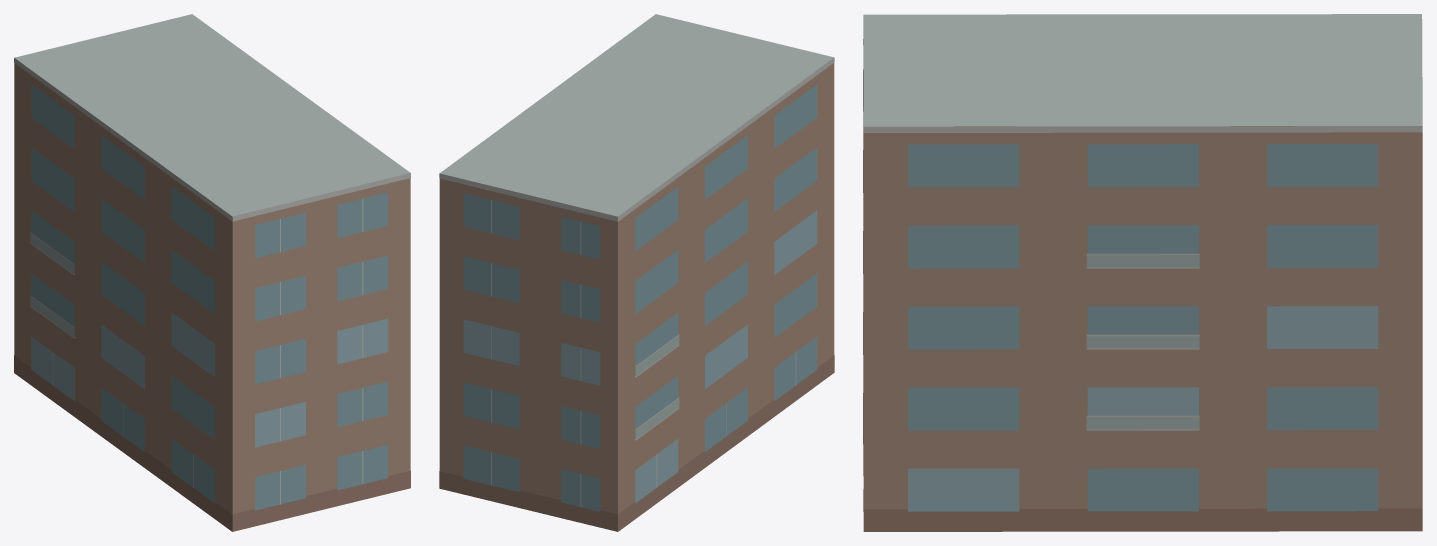
Rendered from survey-upis-32881122.glb.
3 views of the same model, side by side, from view 1: azimuth 30°, elevation 25°; view 2: azimuth 150°, elevation 25°; view 3: azimuth 270°, elevation 25° (orthographic). The views are drawn at different scales.
Parts seen in each view (by area): view 1: survey-upis-32881122.tmp; view 2: survey-upis-32881122.tmp; view 3: survey-upis-32881122.tmp.
Boxes of the visible parts, box(x1,y1,x2,y2) form: survey-upis-32881122.tmp: box(14, 14, 410, 531); survey-upis-32881122.tmp: box(439, 14, 834, 531); survey-upis-32881122.tmp: box(863, 14, 1422, 531).
Size of the model in its own units: 9.13 by 15.25 by 19.09.
